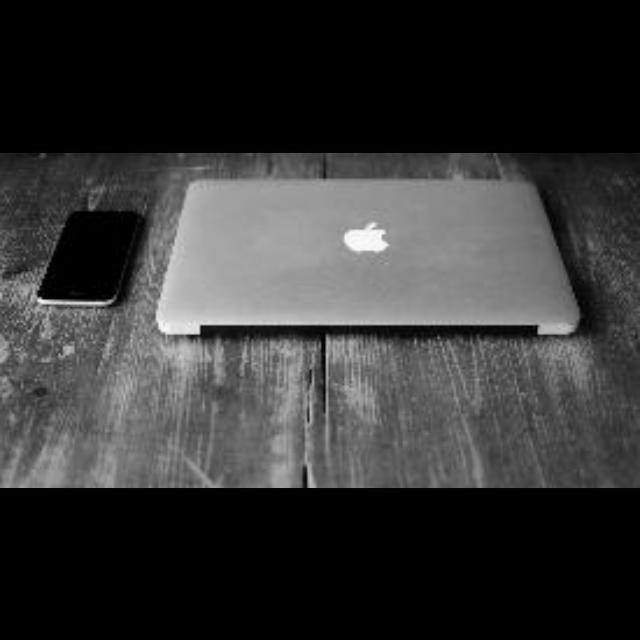fake: (25, 186, 158, 326)
